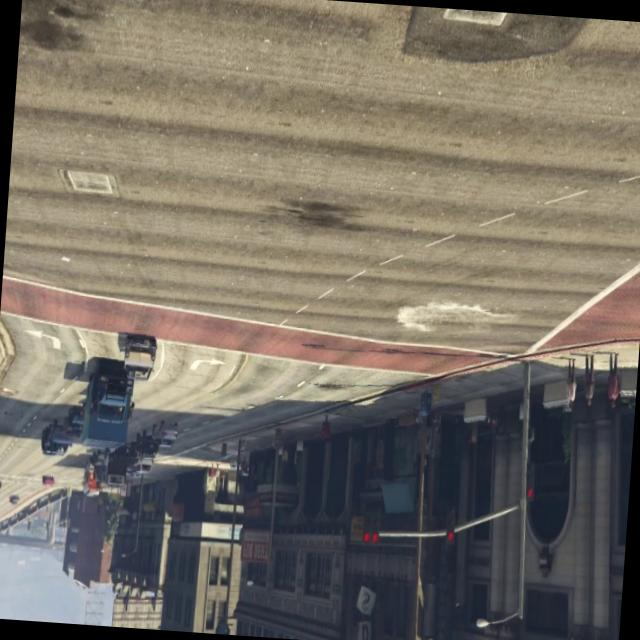Red-Signal: (356, 494, 388, 556), (442, 500, 459, 550), (522, 456, 538, 506)
